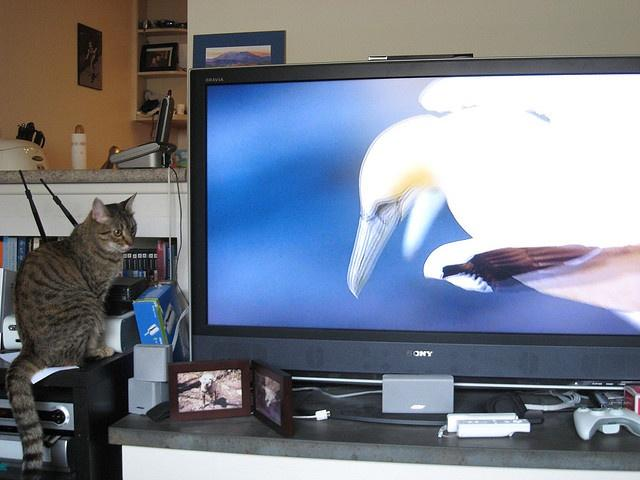AIO PC-Monitor-TV: (187, 54, 639, 379)
